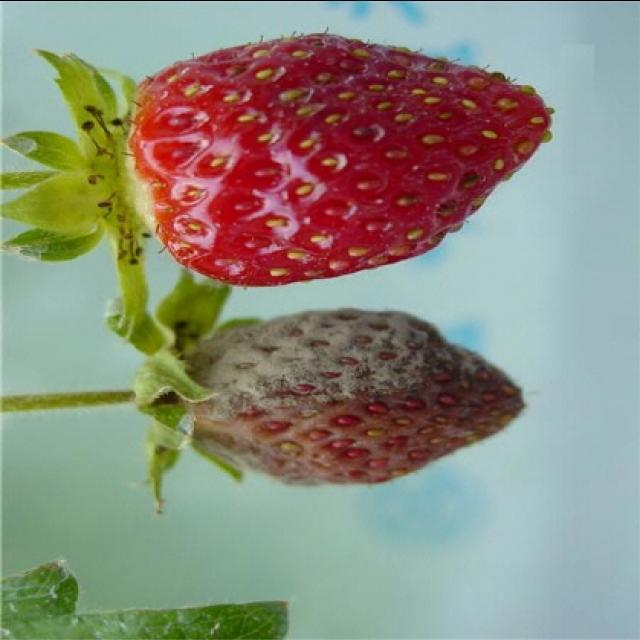Gray Mold: (178, 306, 527, 488)
